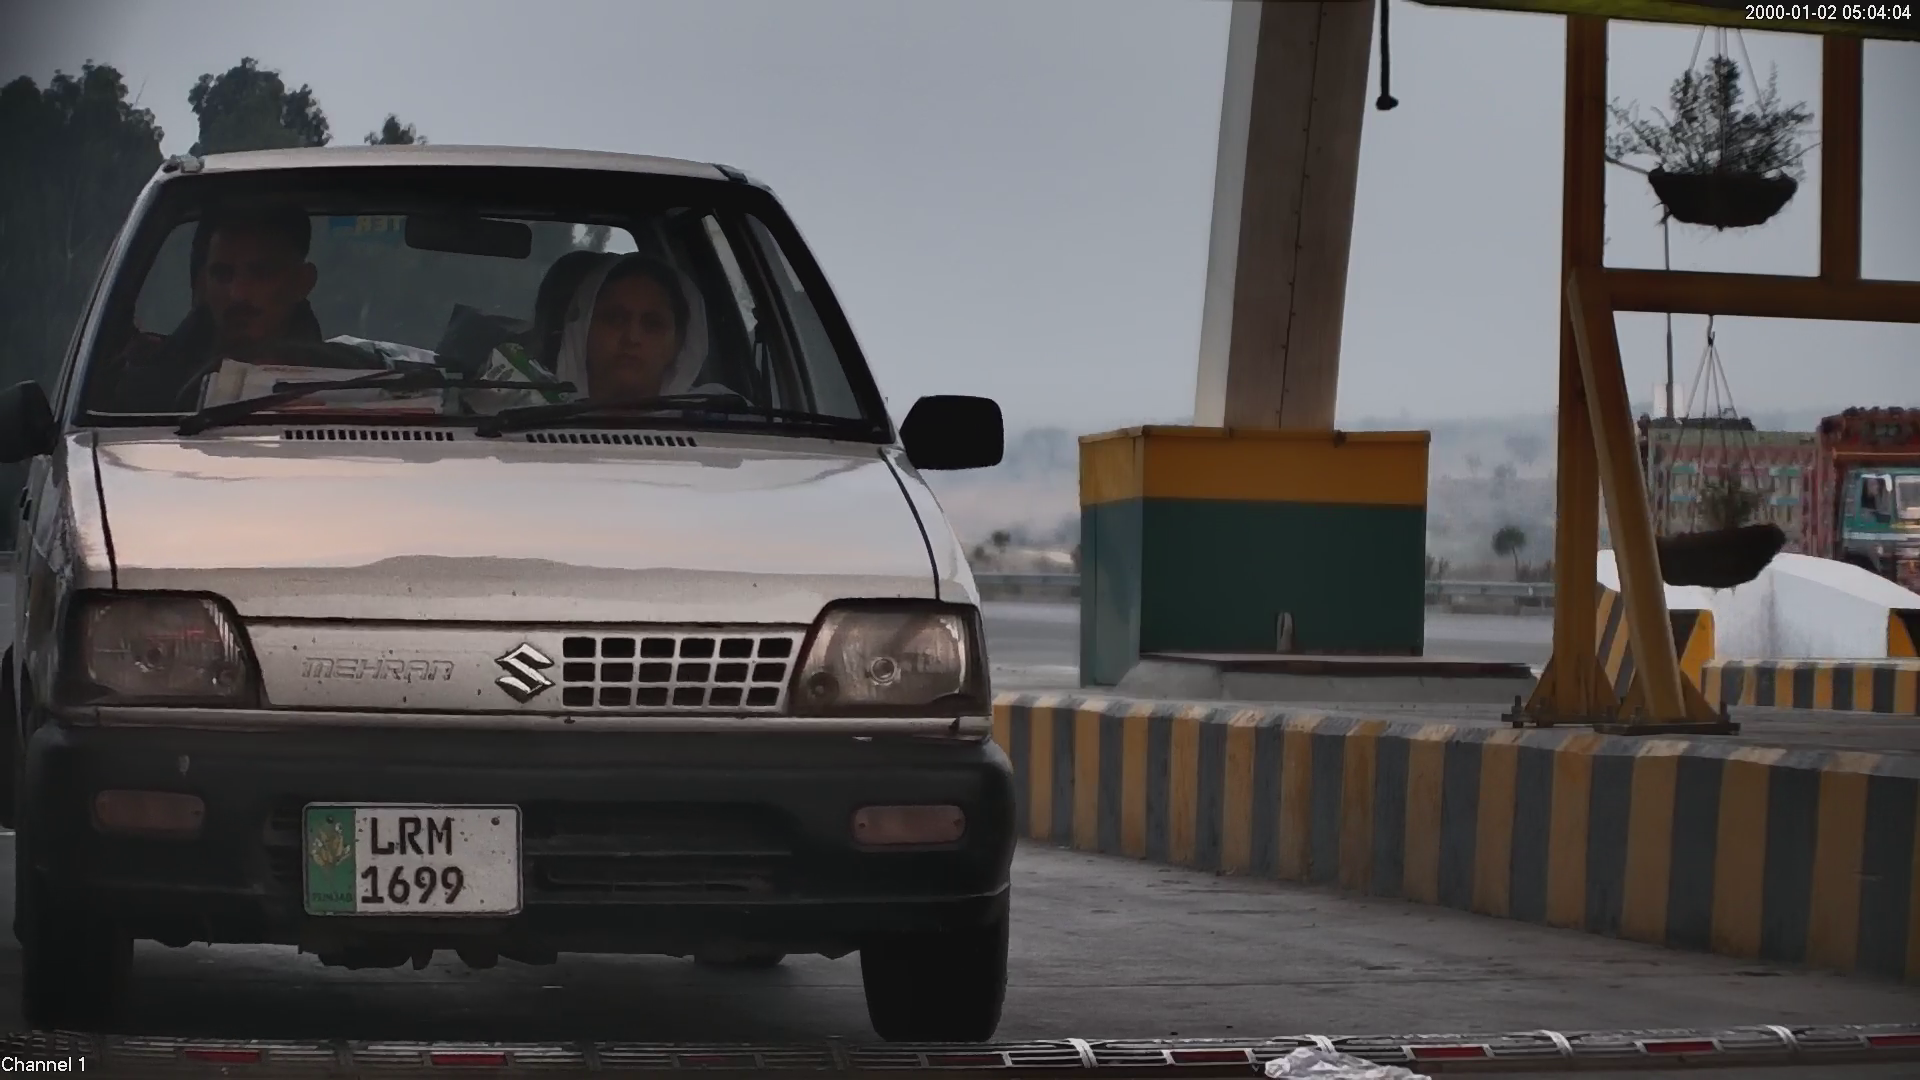Number_Plate: (290, 791, 536, 938)
